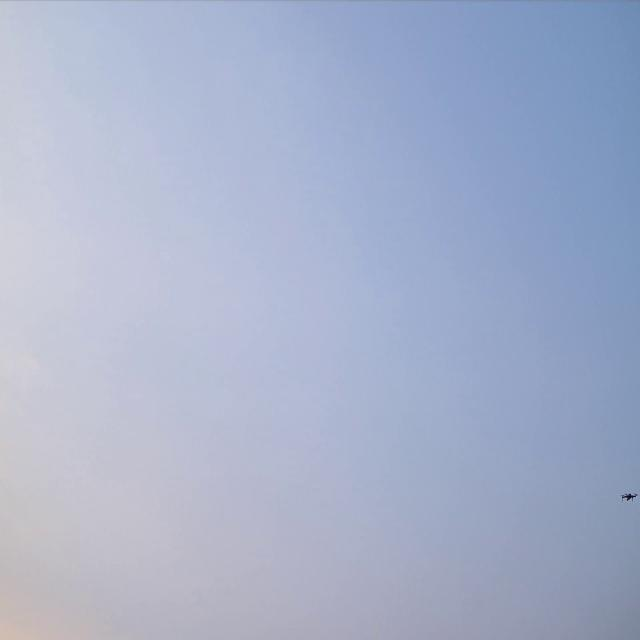UAV: (622, 494, 636, 499)
